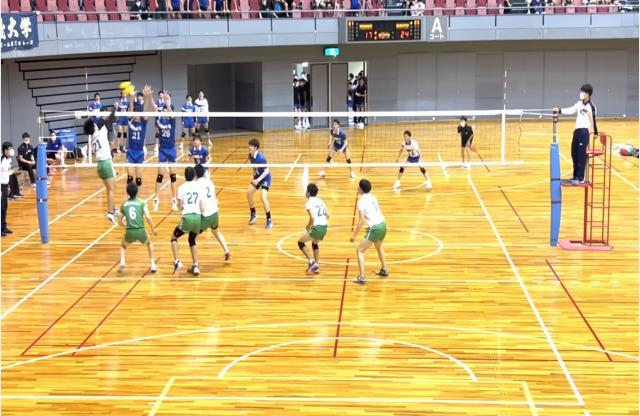spike: (81, 98, 125, 226)
